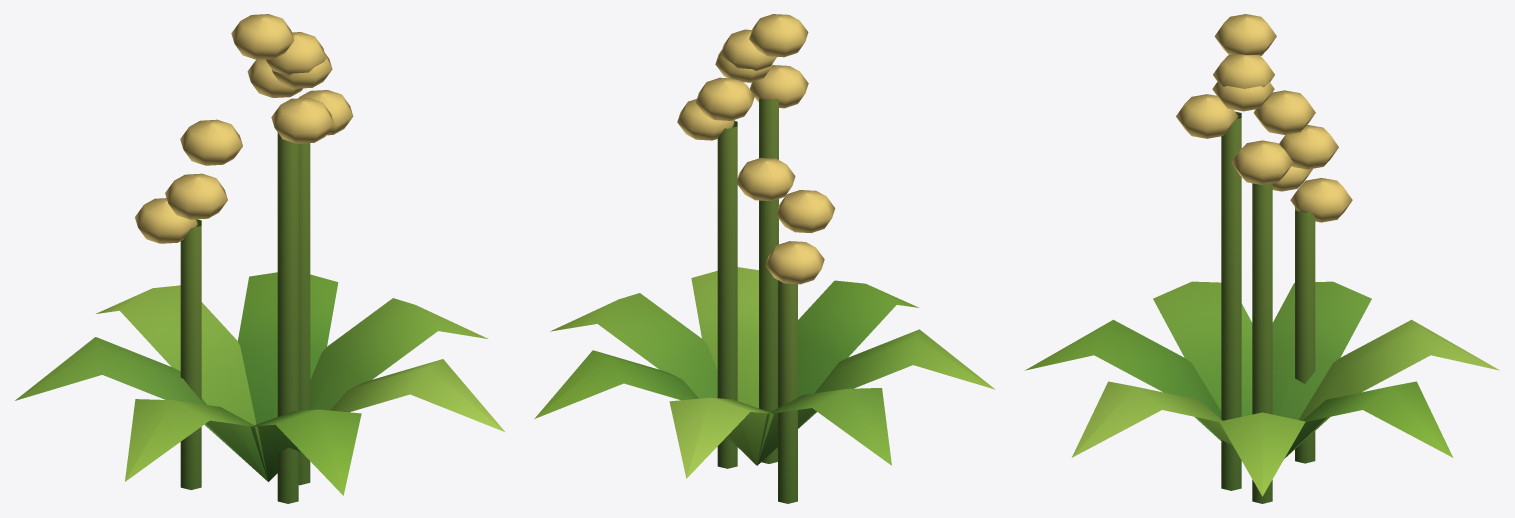
The model's file is Flowers_Yellow_Low.fbx.
The picture shows the model from 3 angles, left to right: view 1: azimuth 30°, elevation 25°; view 2: azimuth 150°, elevation 25°; view 3: azimuth 270°, elevation 25°; orthographic projection. The views are drawn at different scales.
Parts seen in each view (by area): view 1: Flowers_Yellow_Low; view 2: Flowers_Yellow_Low; view 3: Flowers_Yellow_Low.
Boxes of the visible parts, x1,y1,x2,y2 form: Flowers_Yellow_Low: (15,14,505,503); Flowers_Yellow_Low: (534,14,995,503); Flowers_Yellow_Low: (1025,14,1499,503).
Bounding box in the file's own units: 0.4752 × 0.5192 × 0.4875.
